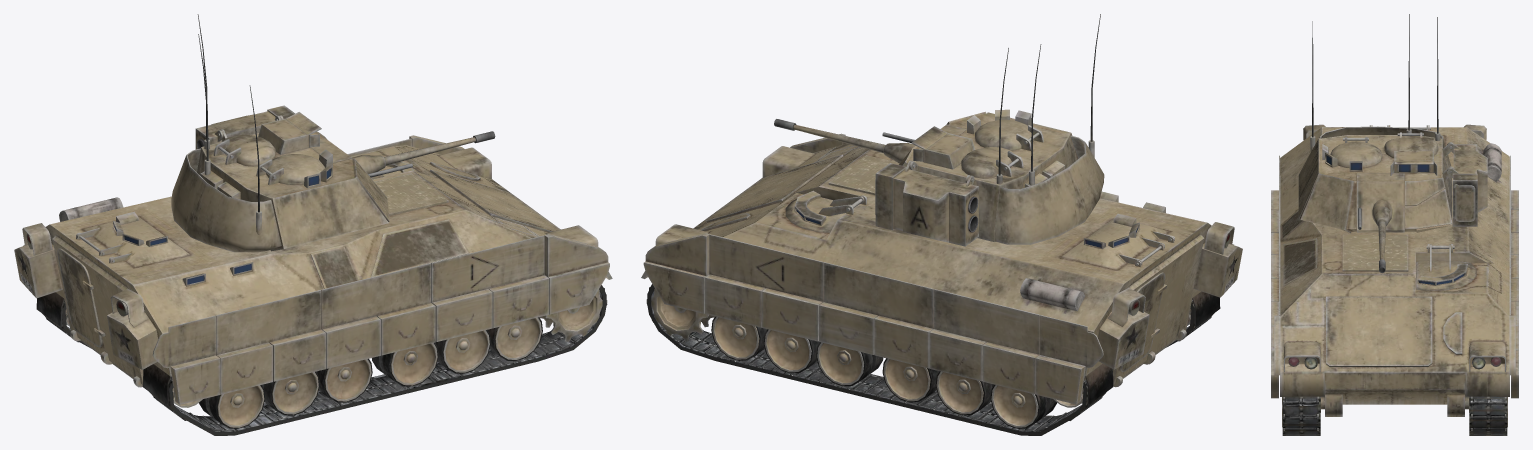
File: asv.glb
3 renders of one model, left to right at view 1: azimuth 30°, elevation 25°; view 2: azimuth 150°, elevation 25°; view 3: azimuth 270°, elevation 25°, orthographic. The views are drawn at different scales.
Parts seen in each view (by area): view 1: Bredley_Hull, Bredley_HullArmor, Bredley_Tower, Cube.004, Bredley_CaterpillarR, Bredley_RollersR3, Bredley_RollersR6, Bredley_MainGun, Bredley_RollersR5, Bredley_RollersR4, Bredley_RollersR2, Bredley_RollersR1 (+2 smaller); view 2: Bredley_Hull, Bredley_HullArmor, Bredley_Tower, Bredley_Rocket, Bredley_CaterpillarAnimL, Bredley_CaterpillarL, Bredley_RollersL3, Bredley_RollersL6, Bredley_RollersL5, Bredley_RollersL4, Bredley_RollersL2, Bredley_RollersL1 (+2 smaller); view 3: Bredley_Hull, Bredley_Tower, Bredley_HullArmor, Bredley_MainGun, Bredley_Rocket, Bredley_CaterpillarL, Bredley_CaterpillarR, Bredley_RocketHatch, Cube.004, Bredley_CaterpillarAnimL.
Boxes of the visible parts, x1=… form: Bredley_Hull: x1=14, y1=145, x2=612, y2=404; Bredley_HullArmor: x1=152, y1=135, x2=609, y2=404; Bredley_Tower: x1=171, y1=14, x2=389, y2=252; Cube.004: x1=153, y1=287, x2=607, y2=431; Bredley_CaterpillarR: x1=149, y1=285, x2=606, y2=435; Bredley_RollersR3: x1=372, y1=342, x2=438, y2=386; Bredley_RollersR6: x1=199, y1=385, x2=265, y2=428; Bredley_MainGun: x1=311, y1=131, x2=495, y2=177; Bredley_RollersR5: x1=262, y1=371, x2=319, y2=415; Bredley_RollersR4: x1=316, y1=358, x2=372, y2=402; Bredley_RollersR2: x1=435, y1=330, x2=490, y2=373; Bredley_RollersR1: x1=487, y1=317, x2=542, y2=361; Bredley_Hull: x1=641, y1=143, x2=1242, y2=404; Bredley_HullArmor: x1=643, y1=133, x2=1103, y2=404; Bredley_Tower: x1=899, y1=14, x2=1104, y2=244; Bredley_Rocket: x1=875, y1=160, x2=978, y2=246; Bredley_CaterpillarAnimL: x1=646, y1=274, x2=1102, y2=431; Bredley_CaterpillarL: x1=647, y1=284, x2=1106, y2=435; Bredley_RollersL3: x1=816, y1=342, x2=883, y2=386; Bredley_RollersL6: x1=990, y1=384, x2=1057, y2=428; Bredley_RollersL5: x1=935, y1=371, x2=993, y2=415; Bredley_RollersL4: x1=882, y1=358, x2=939, y2=402; Bredley_RollersL2: x1=763, y1=329, x2=819, y2=373; Bredley_RollersL1: x1=711, y1=316, x2=766, y2=360; Bredley_Hull: x1=1280, y1=124, x2=1509, y2=416; Bredley_Tower: x1=1298, y1=14, x2=1454, y2=233; Bredley_HullArmor: x1=1271, y1=155, x2=1518, y2=398; Bredley_MainGun: x1=1357, y1=173, x2=1404, y2=272; Bredley_Rocket: x1=1447, y1=142, x2=1487, y2=226; Bredley_CaterpillarL: x1=1469, y1=396, x2=1507, y2=435; Bredley_CaterpillarR: x1=1282, y1=396, x2=1320, y2=435; Bredley_RocketHatch: x1=1453, y1=184, x2=1475, y2=221; Cube.004: x1=1283, y1=398, x2=1318, y2=434; Bredley_CaterpillarAnimL: x1=1470, y1=399, x2=1506, y2=434.
Bounding box in the file's own units: 6.19 × 4.24 × 3.18.
Materials: 2 (2 with a texture image).
